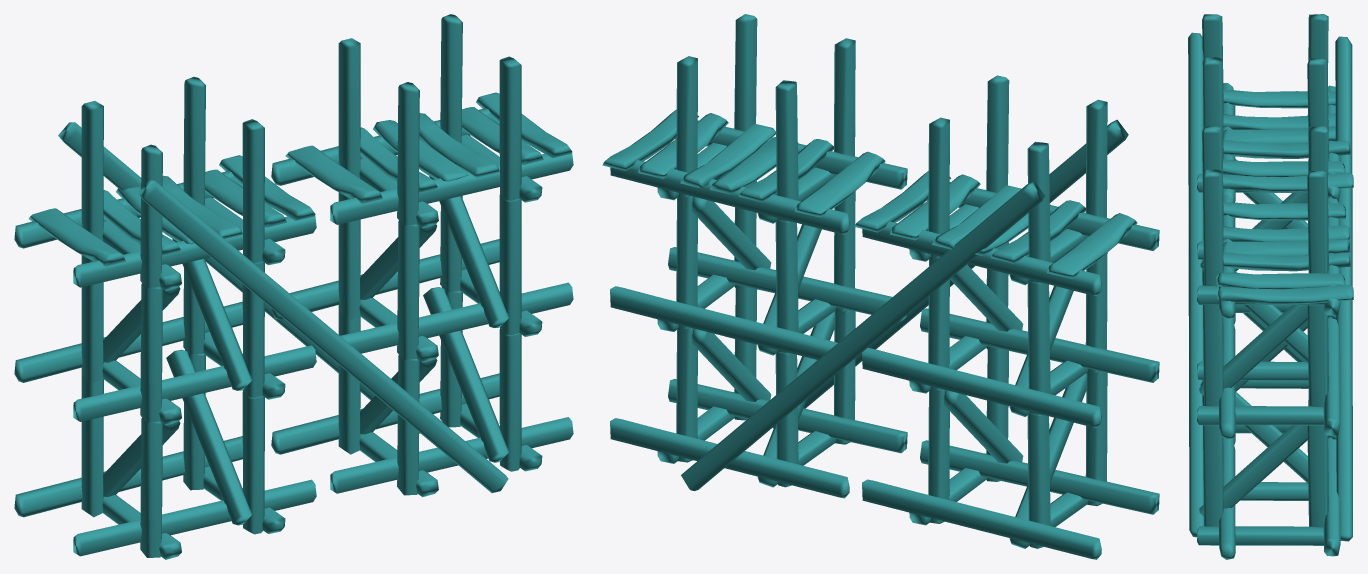
The model's file is SM_Construction_Kit_Scaffolding_Walk.fbx.
3 views of the same model, side by side, from view 1: azimuth 30°, elevation 25°; view 2: azimuth 150°, elevation 25°; view 3: azimuth 270°, elevation 25° (orthographic). The views are drawn at different scales.
Visible parts, largest first — view 1: SM_Construction_Kit_Scaffolding_Walk; view 2: SM_Construction_Kit_Scaffolding_Walk; view 3: SM_Construction_Kit_Scaffolding_Walk.
Boxes of the visible parts, left/top/right/bottom form: SM_Construction_Kit_Scaffolding_Walk: left=14, top=14, right=573, bottom=559; SM_Construction_Kit_Scaffolding_Walk: left=602, top=14, right=1159, bottom=559; SM_Construction_Kit_Scaffolding_Walk: left=1188, top=14, right=1353, bottom=559.
Size of the model in its own units: 386 by 314 by 125.
